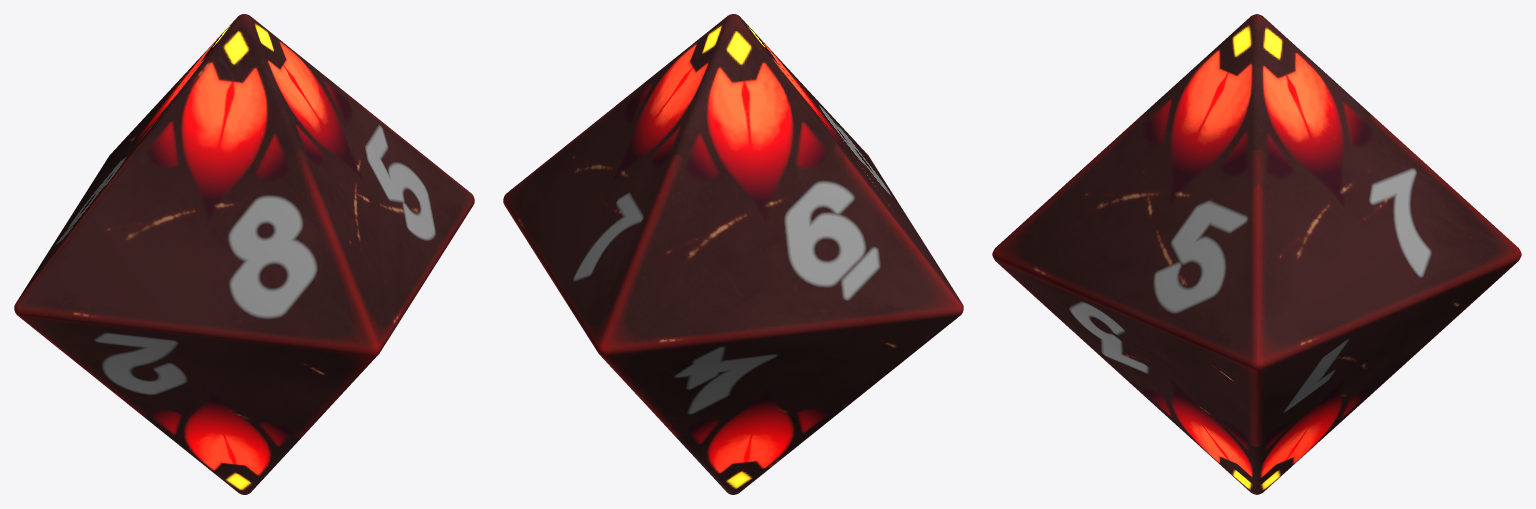
The model's file is kat_d8.glb.
The picture shows the model from 3 angles, left to right: view 1: azimuth 30°, elevation 25°; view 2: azimuth 150°, elevation 25°; view 3: azimuth 270°, elevation 25°; orthographic projection.
Visible parts, largest first — view 1: Solid; view 2: Solid; view 3: Solid.
Boxes of the visible parts, bbox=[...] form: Solid: bbox=[14, 14, 474, 494]; Solid: bbox=[503, 14, 963, 494]; Solid: bbox=[992, 14, 1521, 494].
Bounding box in the file's own units: 199 × 199 × 199.
Materials: 1 (1 with a texture image).
